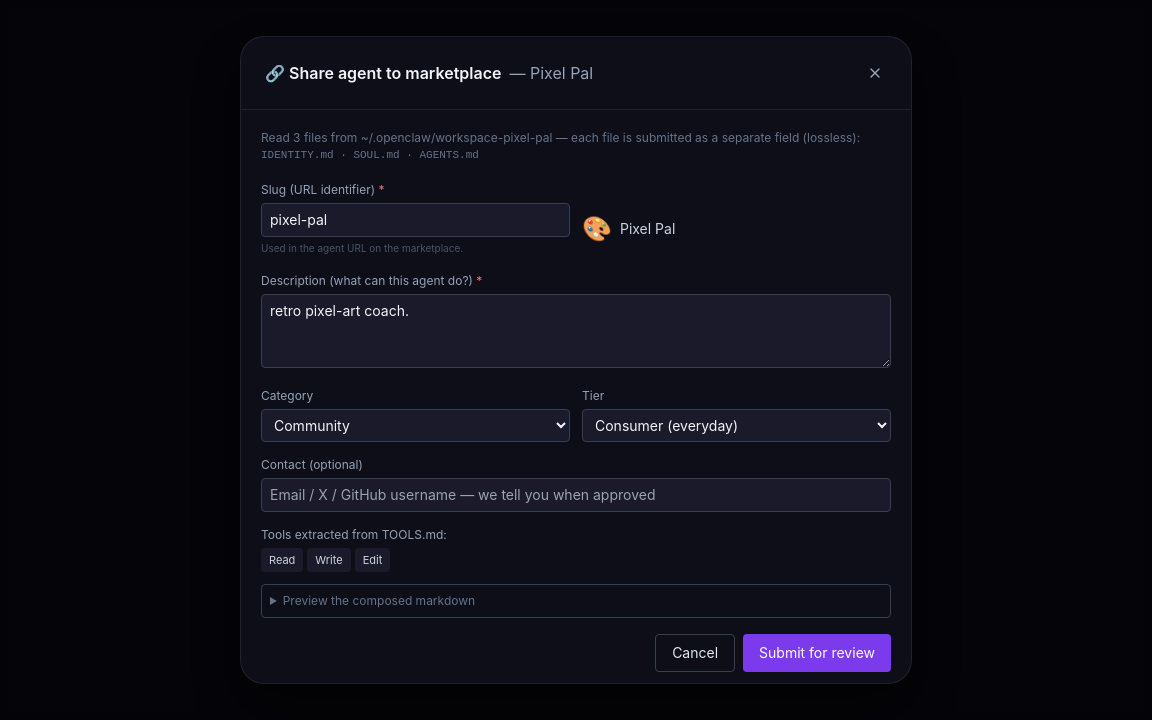
ShareAgentForm · L3 chaos › happy path: submit returns success → shows 已提交 toast + disables close during submit
Click the button with test id "share-submit" at [817, 653], box [743,634,891,672]
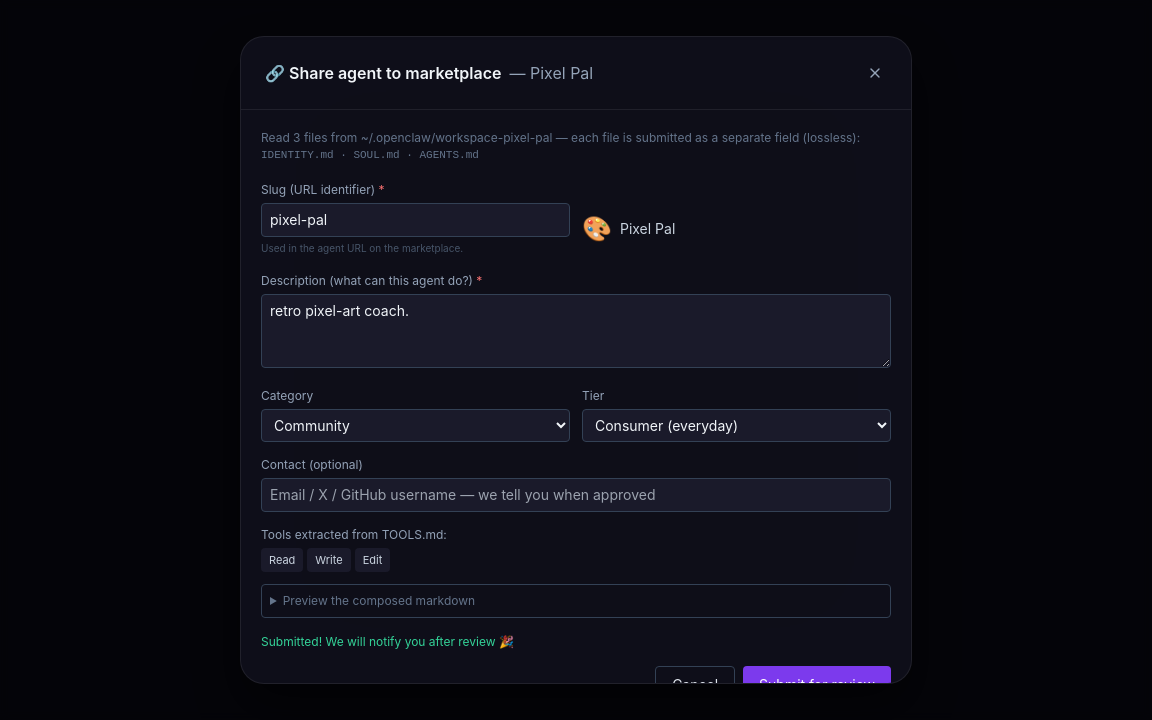
Check: the message "Submitted! We will notify you after review 🎉" is shown, box [261,634,514,649]
